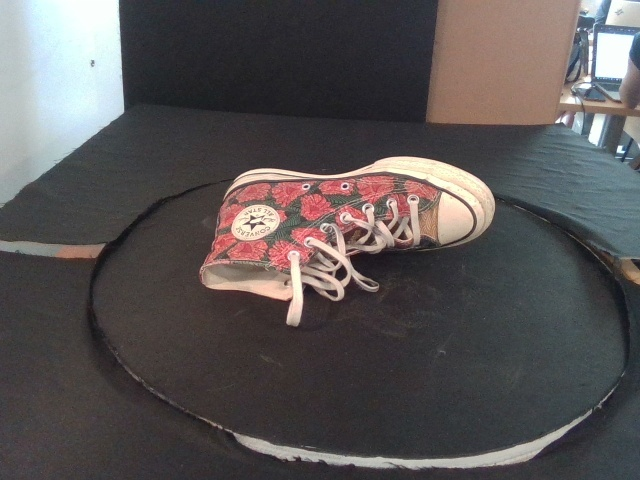shoe: (198, 155, 496, 302)
